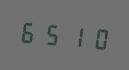five: (41, 18, 63, 49)
one: (64, 20, 86, 51)
six: (18, 16, 40, 47)
zero: (87, 22, 109, 53)
